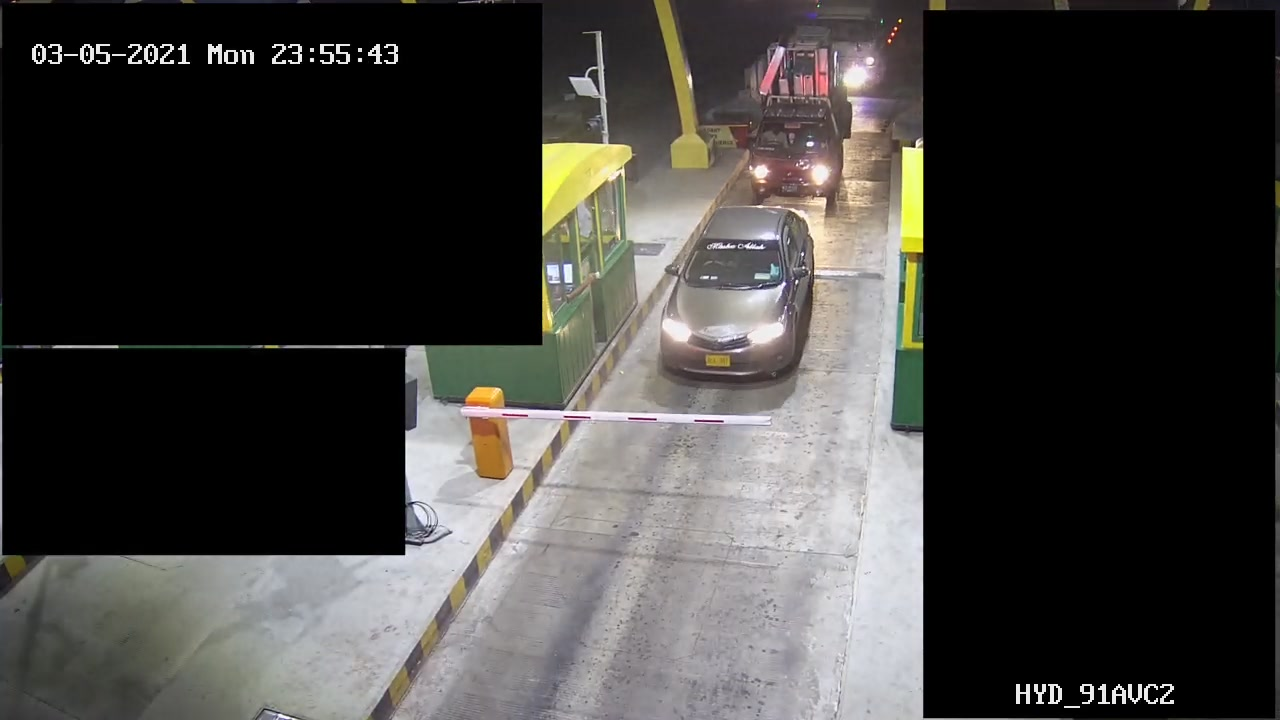F1: (643, 203, 815, 393)
F2: (720, 40, 861, 205)
